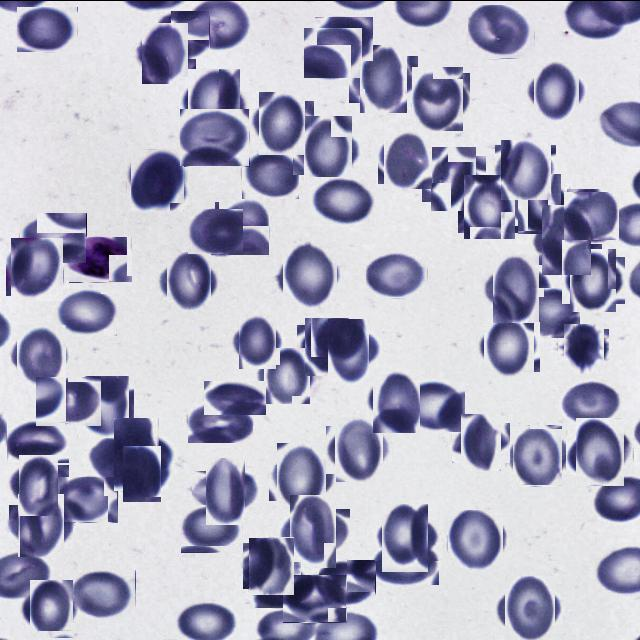difficult: (64, 236, 133, 282)
red blood cell: (278, 244, 342, 308), (180, 108, 250, 166), (183, 73, 244, 134), (468, 4, 535, 58), (283, 501, 343, 561), (536, 209, 596, 269), (298, 120, 358, 179), (106, 423, 166, 482), (446, 511, 505, 570), (402, 378, 466, 432), (354, 49, 412, 108), (501, 578, 558, 638), (570, 422, 630, 479), (20, 212, 87, 263), (308, 176, 376, 226), (273, 446, 331, 504), (128, 150, 186, 208), (409, 69, 467, 127), (488, 258, 546, 316), (8, 240, 66, 298), (461, 177, 518, 235), (330, 420, 388, 477), (376, 508, 433, 566), (36, 376, 102, 426), (74, 378, 132, 434), (73, 569, 136, 620), (426, 150, 482, 206), (510, 427, 566, 483), (481, 318, 537, 374), (368, 372, 424, 428), (498, 141, 553, 197), (283, 574, 347, 622), (14, 327, 69, 382), (566, 252, 621, 307), (254, 96, 310, 150), (522, 287, 581, 338), (304, 27, 363, 78), (368, 542, 439, 584), (181, 504, 243, 552), (56, 288, 118, 336), (13, 498, 68, 552), (380, 132, 434, 186), (198, 463, 252, 517), (138, 26, 192, 80), (322, 324, 376, 378), (559, 379, 622, 425), (217, 199, 270, 253), (366, 251, 428, 297), (530, 64, 584, 116), (17, 6, 78, 52), (242, 149, 299, 198), (162, 254, 215, 306), (245, 539, 298, 591), (319, 559, 376, 607), (514, 177, 566, 229), (300, 320, 352, 372), (566, 190, 618, 242), (60, 476, 118, 522), (261, 349, 312, 401), (26, 582, 77, 634), (7, 420, 69, 462), (188, 402, 253, 442), (250, 561, 306, 607), (188, 208, 244, 254), (315, 16, 373, 60), (13, 459, 64, 509), (158, 10, 210, 59), (456, 418, 506, 467), (118, 450, 165, 498), (235, 318, 281, 364), (204, 380, 266, 414), (560, 326, 606, 370)
